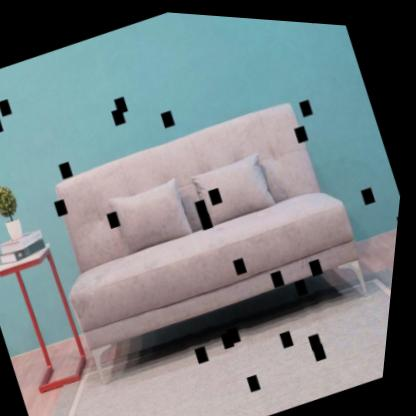Sofa: (43, 82, 371, 356)
